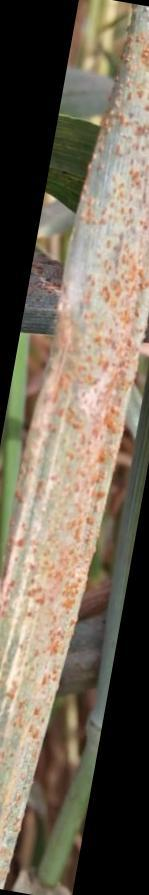Corn: (8, 103, 144, 704)
